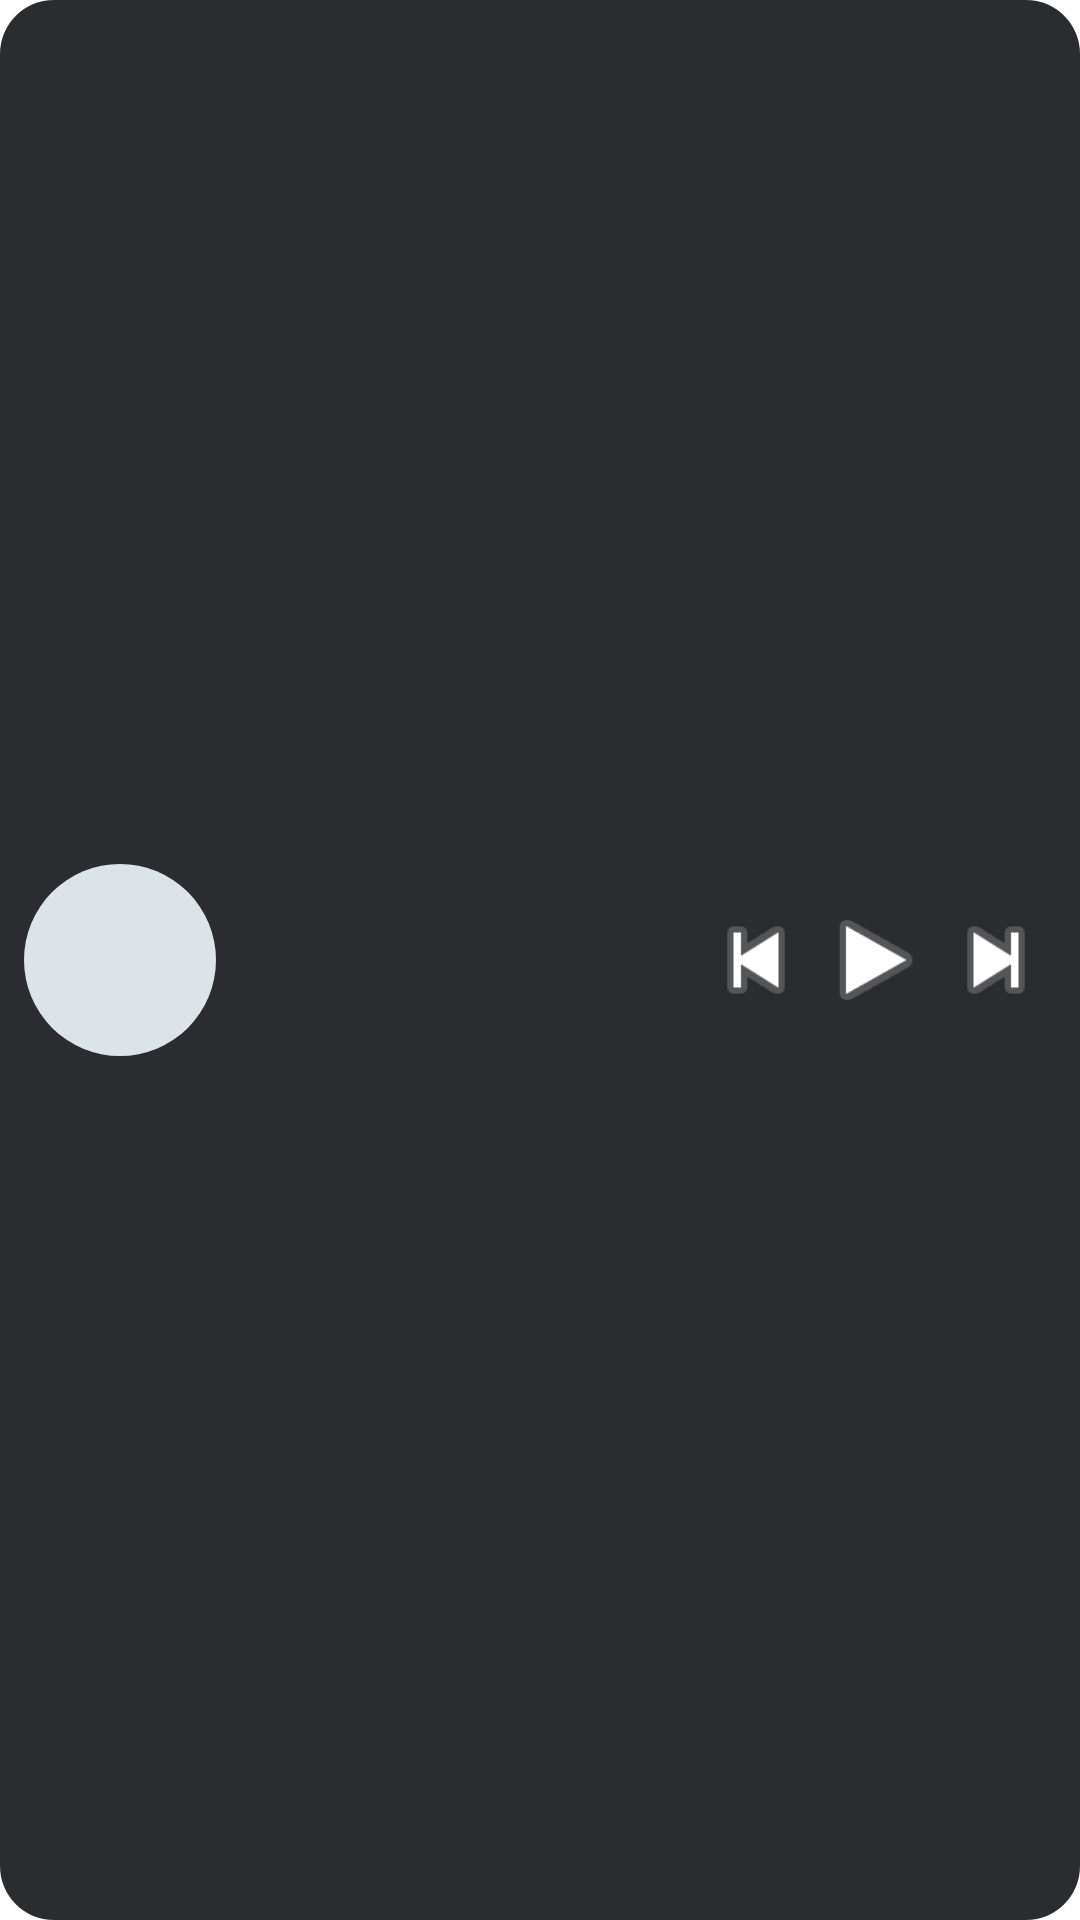

Icons on this 1080w x 1920h Android screen, each with the point to tap as (x,y):
Next: (996,960)
Play or pause: (876,960)
Previous: (756,960)
